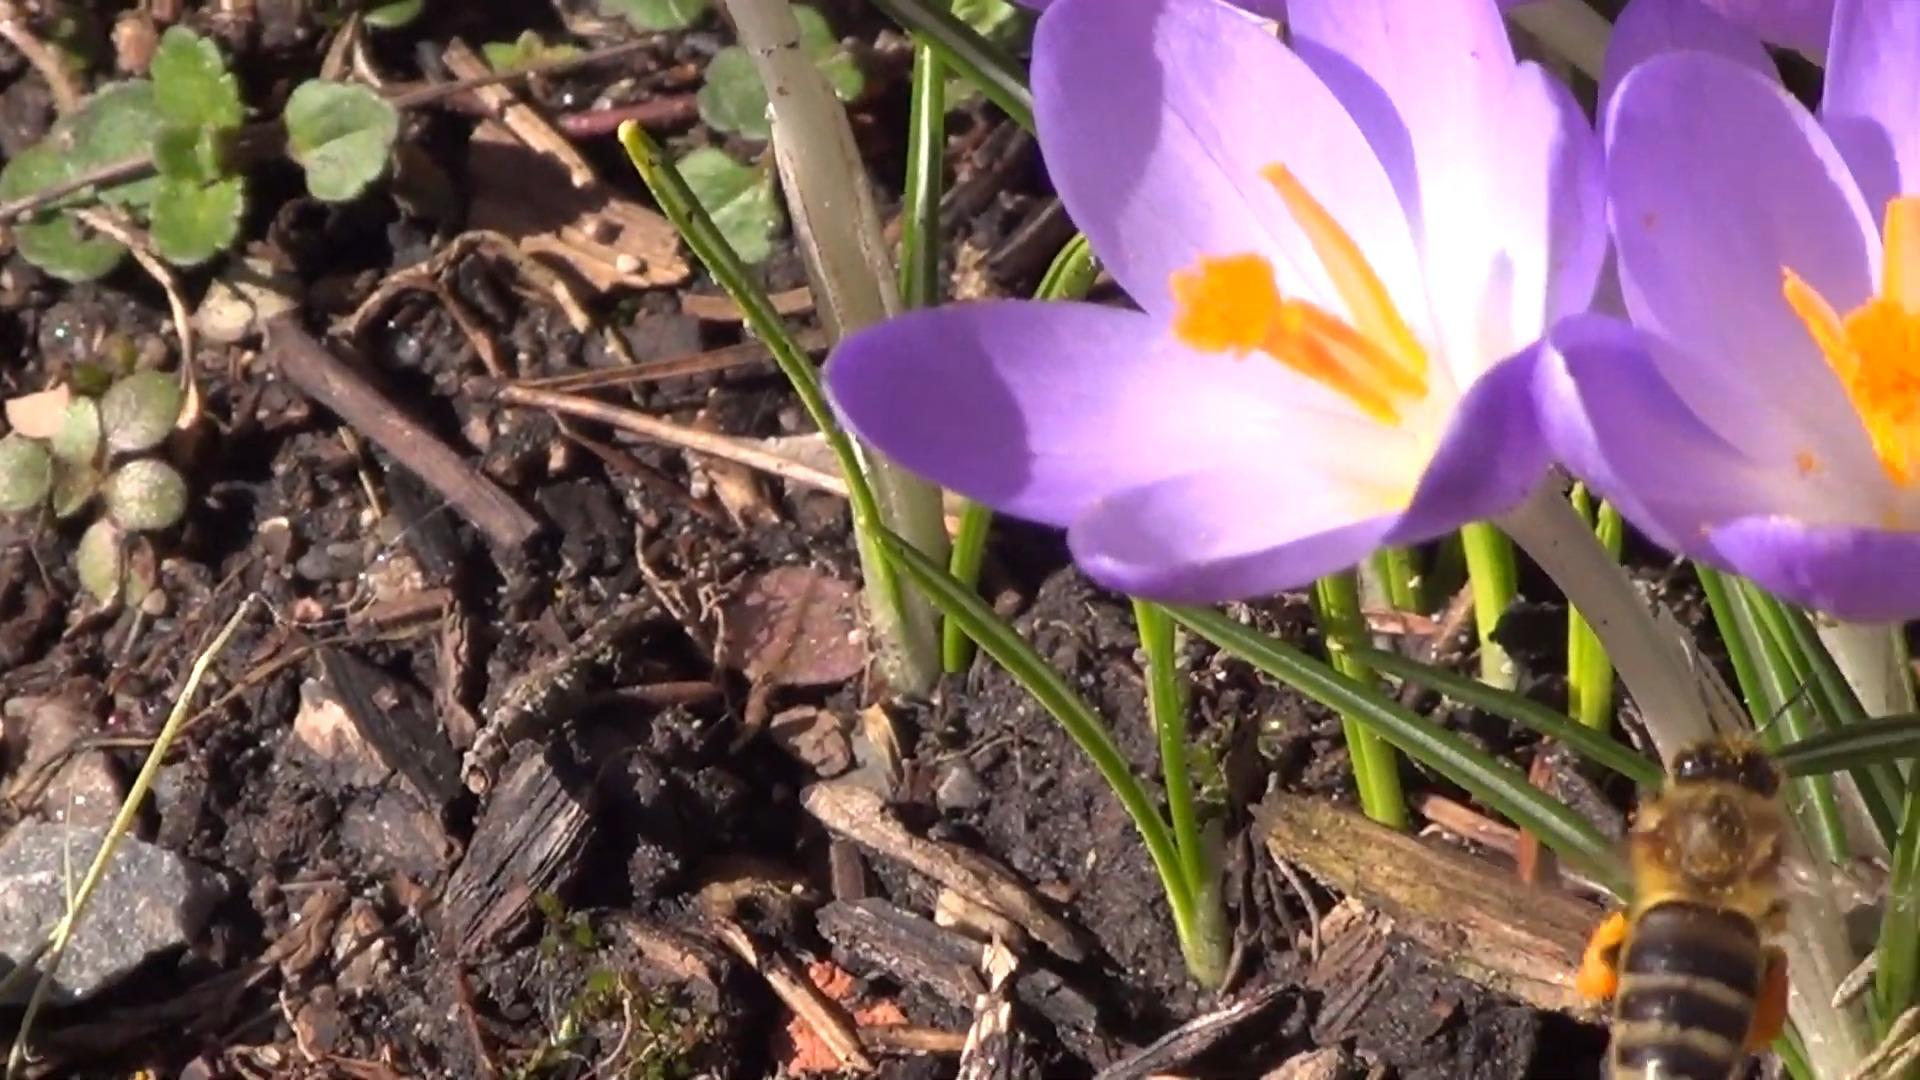pollenbee: (1582, 741, 1787, 1080)
